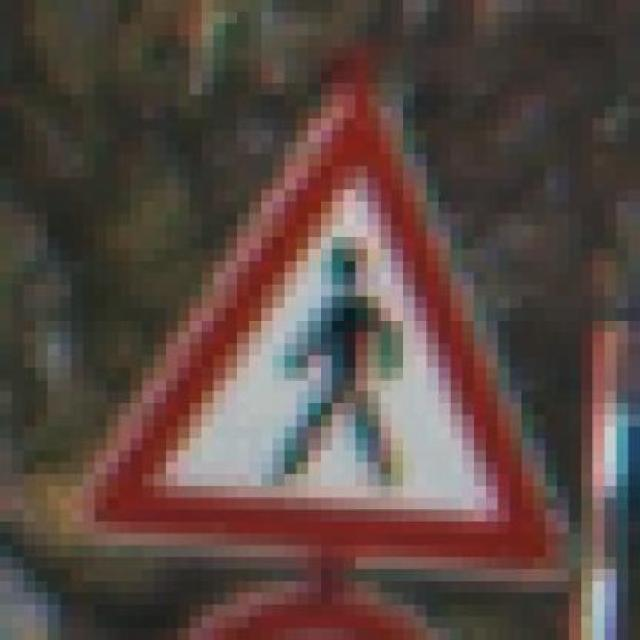Pedestrian Crossing: (70, 59, 582, 581)
